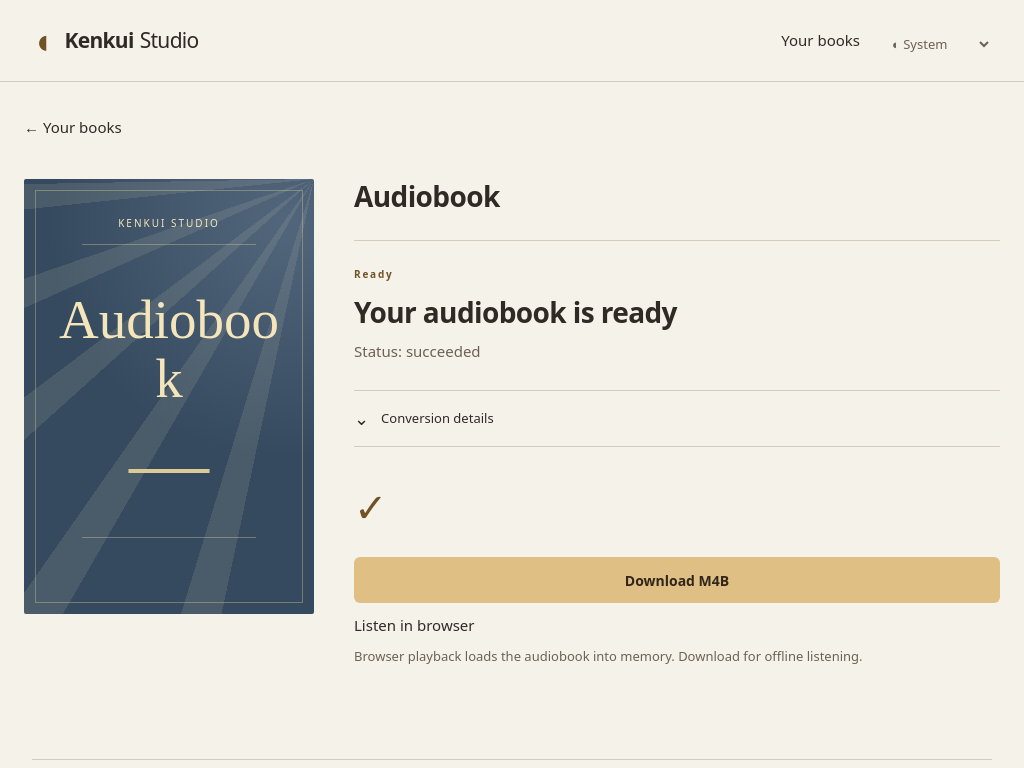
Test case: job lifecycle and host behavior › shows download progress and cancels via unmount
The width and height of the screenshot is (1024, 768).
Click the button "Download M4B". click: (677, 580)
box: x1=354 y1=557 x2=1000 y2=603
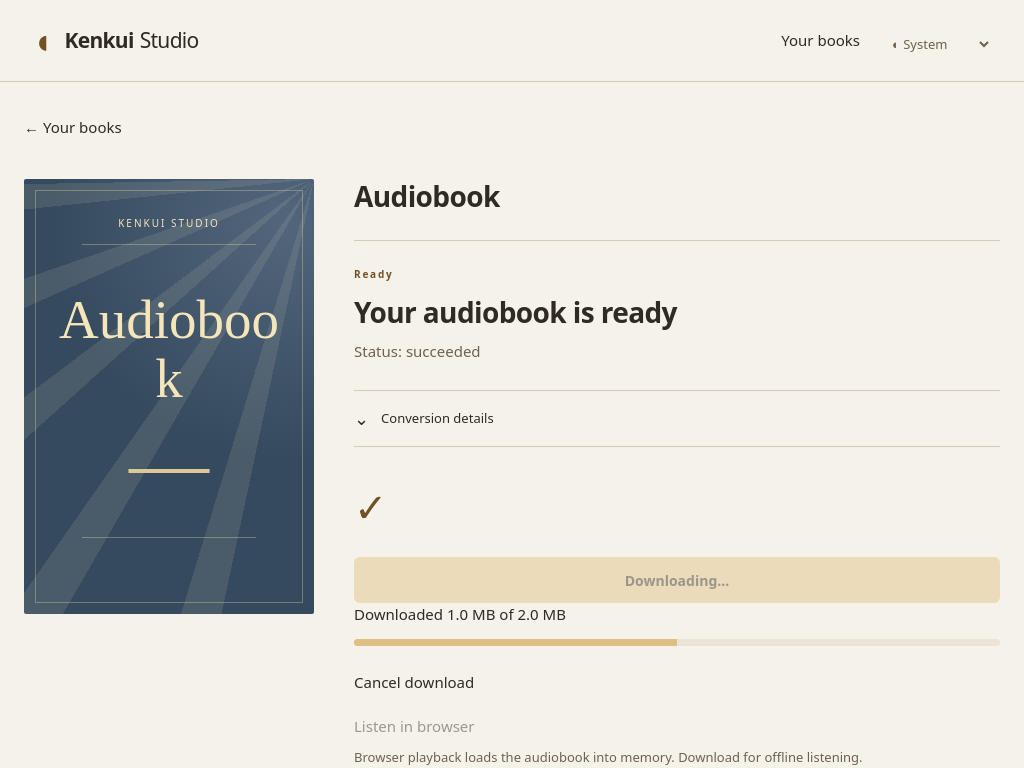
Expected: the text "Downloaded 1.0 MB of 2.0 MB" is shown, x1=354 y1=604 x2=566 y2=624
